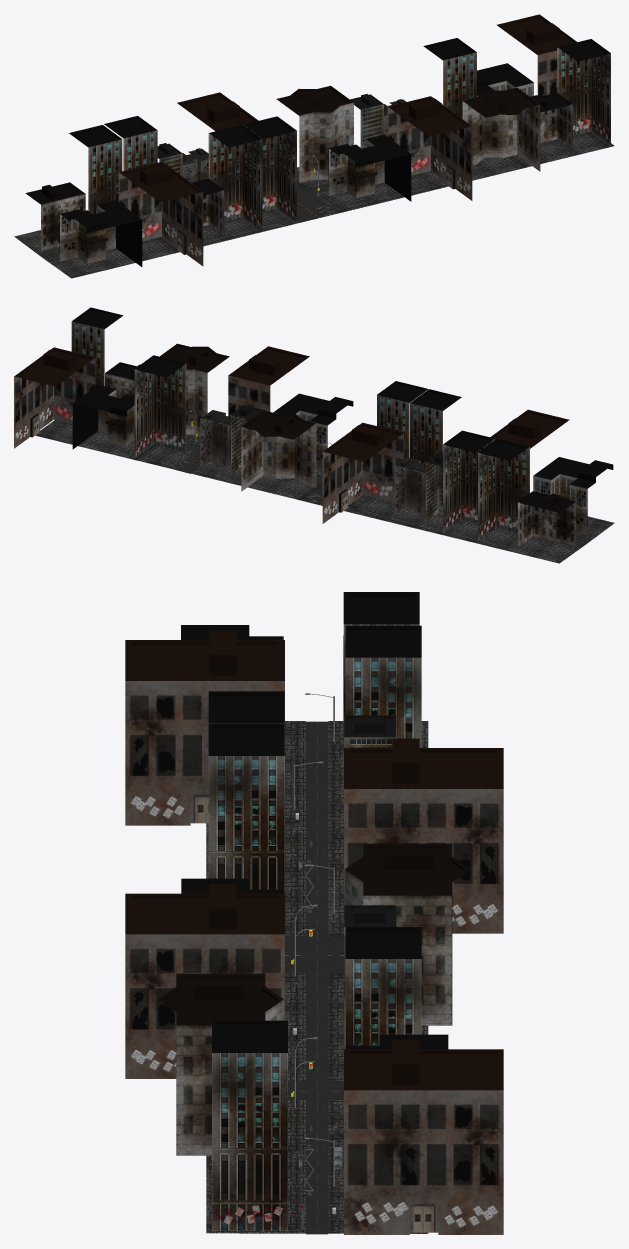
Rendered from cityPatch_Fin_008.fbx.
The picture shows the model from 3 angles, top to bottom: view 1: azimuth 30°, elevation 25°; view 2: azimuth 150°, elevation 25°; view 3: azimuth 270°, elevation 25°; orthographic projection. The views are drawn at different scales.
Parts seen in each view (by area): view 1: camera2; view 2: camera2; view 3: camera2, road_geo1.
Boxes of the visible parts, left/top/right/bottom form: camera2: left=14, top=14, right=614, bottom=278; camera2: left=14, top=307, right=614, bottom=563; camera2: left=125, top=592, right=503, bottom=1234; road_geo1: left=306, top=721, right=328, bottom=1234.
Size of the model in its own units: 76914 by 12489 by 23934.
